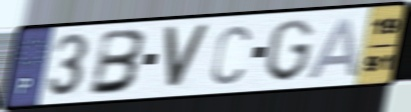3: (46, 31, 94, 99)
A: (304, 15, 362, 81)
B: (86, 28, 149, 98)
C: (209, 23, 253, 87)
G: (262, 17, 316, 84)
V: (161, 23, 212, 91)
